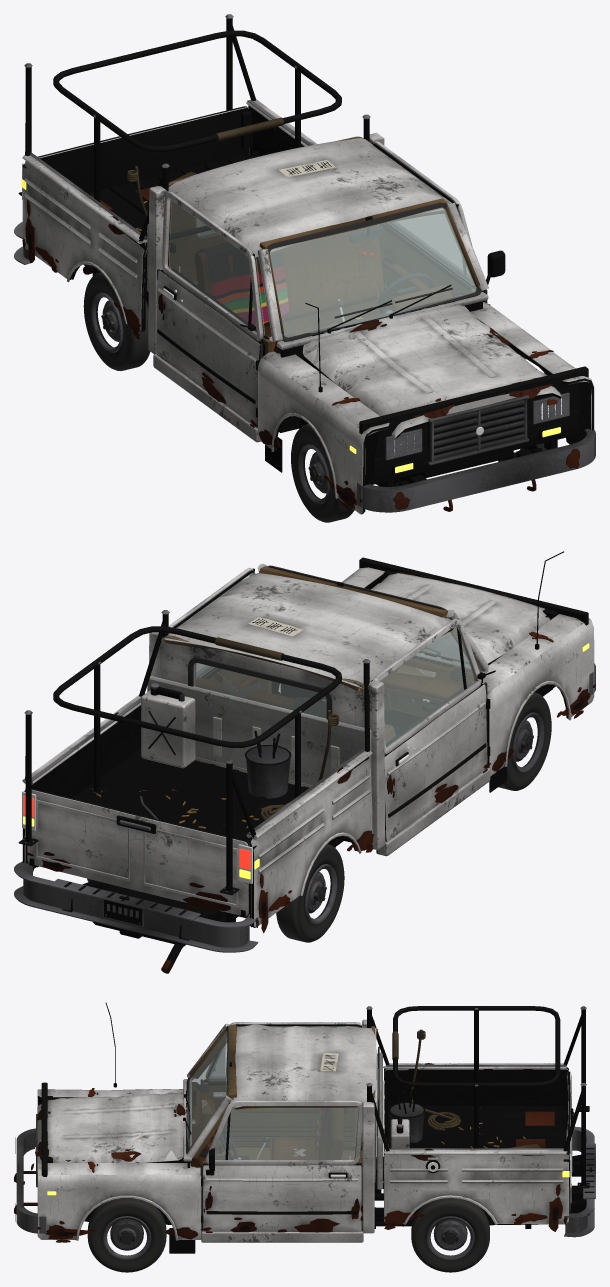
3 renders of one model, top to bottom at view 1: azimuth 30°, elevation 25°; view 2: azimuth 150°, elevation 25°; view 3: azimuth 270°, elevation 25°, orthographic. The views are drawn at different scales.
Parts seen in each view (by area): view 1: body, panel_hood, panel_door_R, panel_fender_R, panel_tailgate, panel_bumper_F, panel_door_L, wheel_RR, panel_fender_L, wheel_FR; view 2: body, panel_door_R, panel_tailgate, panel_fender_R, panel_bumper_R, panel_hood, wheel_RR, wheel_FR, panel_door_L, panel_fender_L; view 3: body, panel_door_L, panel_fender_L, panel_hood, wheel_FL, wheel_RL, panel_door_R, panel_bumper_R, panel_bumper_F, panel_fender_R, panel_tailgate.
Part boxes in pixels (left/top/right/bottom): body: left=18, top=14, right=588, bottom=511; panel_hood: left=302, top=305, right=561, bottom=438; panel_door_R: left=156, top=191, right=269, bottom=427; panel_fender_R: left=249, top=351, right=389, bottom=514; panel_tailgate: left=37, top=106, right=263, bottom=192; panel_bumper_F: left=357, top=428, right=595, bottom=512; panel_door_L: left=373, top=141, right=505, bottom=304; wheel_RR: left=83, top=272, right=150, bottom=370; panel_fender_L: left=470, top=302, right=594, bottom=444; wheel_FR: left=291, top=423, right=354, bottom=522; body: left=18, top=551, right=588, bottom=973; panel_door_R: left=371, top=618, right=495, bottom=841; panel_tailgate: left=25, top=788, right=249, bottom=917; panel_fender_R: left=482, top=614, right=595, bottom=792; panel_bumper_R: left=14, top=861, right=258, bottom=952; panel_hood: left=371, top=571, right=550, bottom=663; wheel_RR: left=276, top=844, right=344, bottom=942; wheel_FR: left=498, top=692, right=551, bottom=790; panel_door_L: left=168, top=567, right=267, bottom=692; panel_fender_L: left=272, top=567, right=384, bottom=695; body: left=14, top=1002, right=589, bottom=1242; panel_door_L: left=201, top=1100, right=363, bottom=1232; panel_fender_L: left=37, top=1161, right=212, bottom=1253; panel_hood: left=31, top=1092, right=186, bottom=1171; wheel_FL: left=87, top=1198, right=166, bottom=1272; wheel_RL: left=411, top=1198, right=489, bottom=1272; panel_door_R: left=203, top=1022, right=363, bottom=1144; panel_bumper_R: left=564, top=1126, right=595, bottom=1237; panel_bumper_F: left=15, top=1128, right=46, bottom=1233; panel_fender_R: left=37, top=1088, right=183, bottom=1106; panel_tailgate: left=532, top=1071, right=574, bottom=1213.
Bounding box in the file's own units: 2.05 × 1.78 × 4.95.
Materials: 20 (13 with a texture image).
